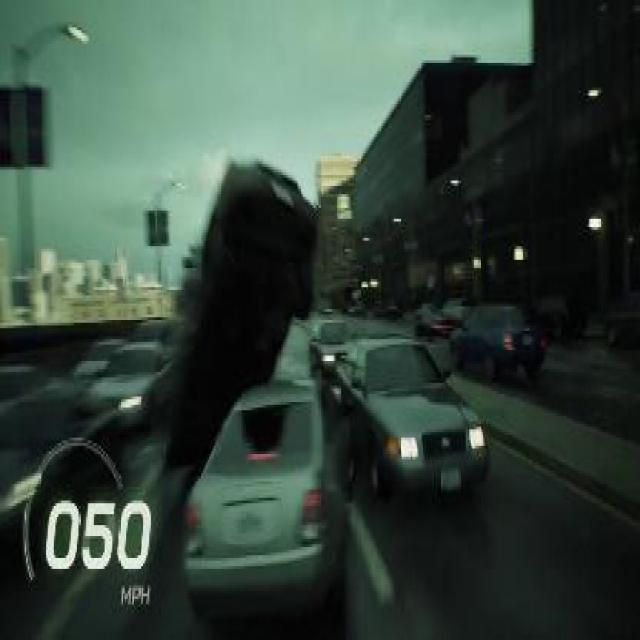accident: (158, 150, 350, 621)
